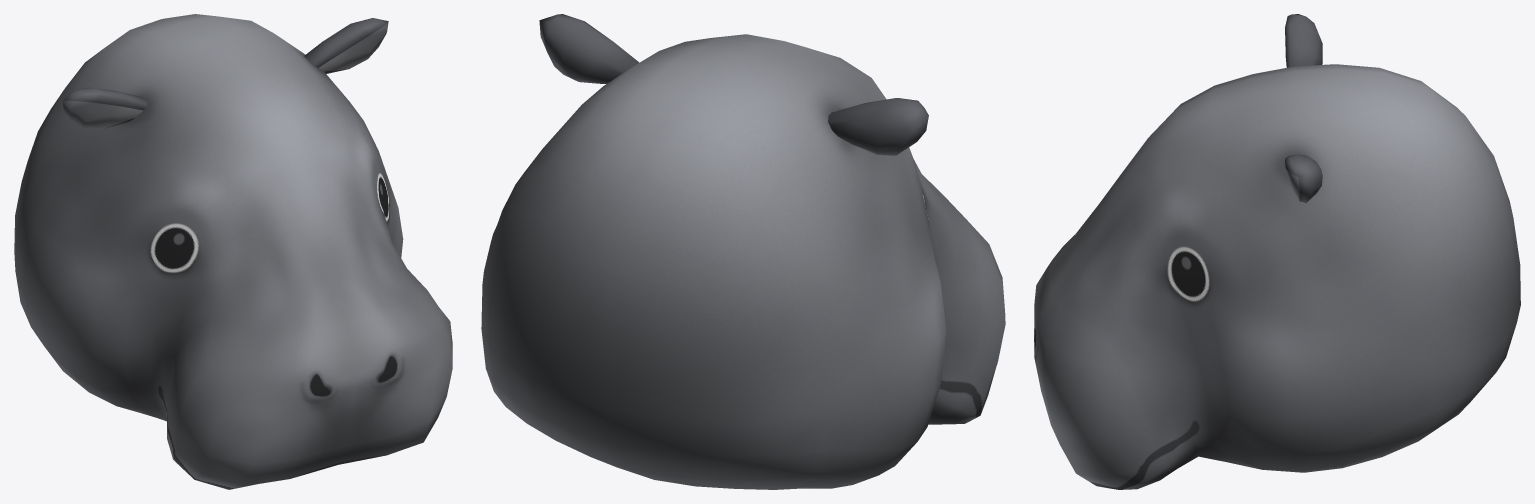
File: ENV2010065.fbx
3 renders of one model, left to right at view 1: azimuth 30°, elevation 25°; view 2: azimuth 150°, elevation 25°; view 3: azimuth 270°, elevation 25°, orthographic. The views are drawn at different scales.
Parts seen in each view (by area): view 1: smENV2010065; view 2: smENV2010065; view 3: smENV2010065.
Part boxes in pixels (<box>): smENV2010065: <box>14,14,452,489</box>; smENV2010065: <box>481,14,1005,489</box>; smENV2010065: <box>1034,14,1520,489</box>.
Size of the model in its own units: 12.55 by 12.21 by 15.22.
1 material, 1 textured.
